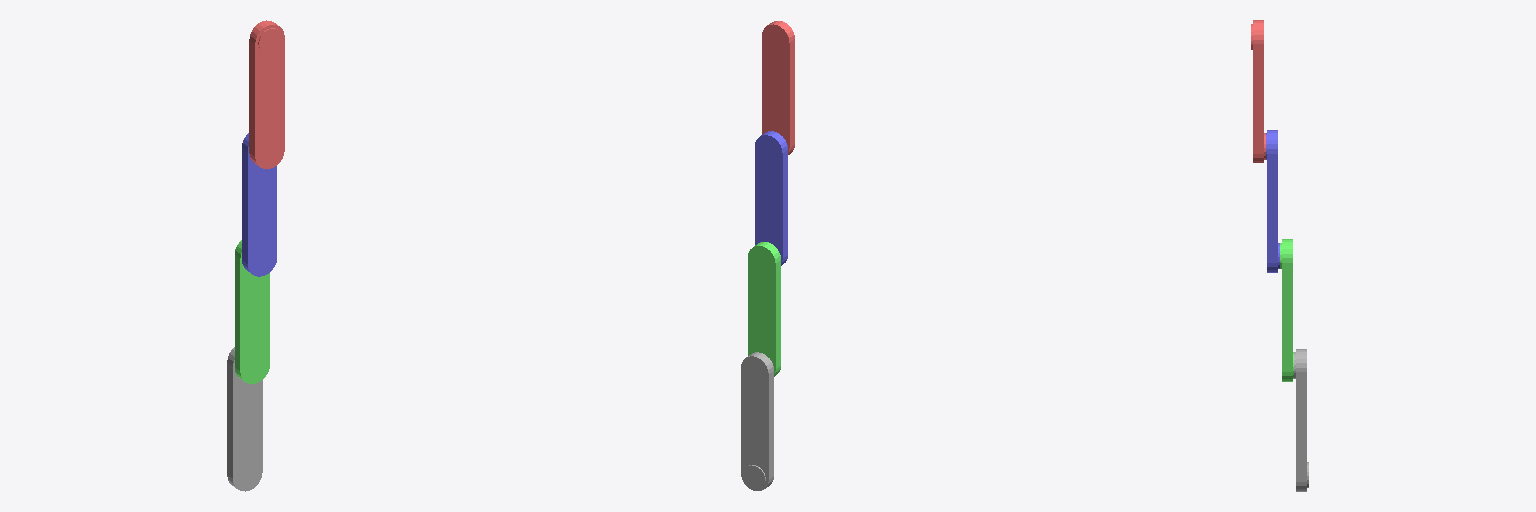
The robot description file, URDF, robot "Sim-Circular Cartpole L3.SLDASM":
<?xml version="1.0" encoding="utf-8"?>
<!-- This URDF was automatically created by SolidWorks to URDF Exporter! Originally created by Stephen Brawner (brawner@gmail.com) 
     Commit Version: 1.6.0-4-g7f85cfe  Build Version: 1.6.7995.38578
     For more information, please see http://wiki.ros.org/sw_urdf_exporter -->
<robot
  name="Sim-Circular Cartpole L3.SLDASM">
  <link
    name="base_link">
    <inertial>
      <origin
        xyz="2.06705220655304E-18 0.0326642091616594 0.000122090101760878"
        rpy="0 0 0" />
      <mass
        value="0.409778207134298" />
      <inertia
        ixx="0.000328708745423522"
        ixy="3.01822904180925E-20"
        ixz="-7.36106350895342E-21"
        iyy="0.00072201047906236"
        iyz="-3.67008610700572E-07"
        izz="0.000878189446080419" />
    </inertial>
    <visual>
      <origin
        xyz="0 0 0"
        rpy="0 0 0" />
      <geometry>
        <mesh
          filename="package://Sim-Circular Cartpole L3.SLDASM/meshes/base_link.STL" />
      </geometry>
      <material
        name="">
        <color
          rgba="0.752941176470588 0.752941176470588 0.752941176470588 1" />
      </material>
    </visual>
    <collision>
      <origin
        xyz="0 0 0"
        rpy="0 0 0" />
      <geometry>
        <mesh
          filename="package://Sim-Circular Cartpole L3.SLDASM/meshes/base_link.STL" />
      </geometry>
    </collision>
  </link>
  <link
    name="fixed_pole">
    <inertial>
      <origin
        xyz="-7.72205987213783E-18 0.08 0.00949999999999999"
        rpy="0 0 0" />
      <mass
        value="0.132256413665709" />
      <inertia
        ixx="0.000435696040674517"
        ixy="-7.48565367135988E-21"
        ixz="-1.87053109185325E-22"
        iyy="2.27781932139765E-05"
        iyz="-2.6169466804403E-06"
        izz="0.00045310026848496" />
    </inertial>
    <visual>
      <origin
        xyz="0 0 0"
        rpy="0 0 0" />
      <geometry>
        <mesh
          filename="package://Sim-Circular Cartpole L3.SLDASM/meshes/fixed_pole.STL" />
      </geometry>
      <material
        name="">
        <color
          rgba="0.752941176470588 0.752941176470588 0.752941176470588 1" />
      </material>
    </visual>
    <collision>
      <origin
        xyz="0 0 0"
        rpy="0 0 0" />
      <geometry>
        <mesh
          filename="package://Sim-Circular Cartpole L3.SLDASM/meshes/fixed_pole.STL" />
      </geometry>
    </collision>
  </link>
  <joint
    name="base_to_fixed"
    type="continuous">
    <origin
      xyz="0 -0.027 0.04"
      rpy="1.5707963267949 0 0" />
    <parent
      link="base_link" />
    <child
      link="fixed_pole" />
    <axis
      xyz="0 0 1" />
  </joint>
  <link
    name="flex_pole_1">
    <inertial>
      <origin
        xyz="-9.01564525398033E-17 0.08 0.00949999999999999"
        rpy="0 0 0" />
      <mass
        value="0.132256413665709" />
      <inertia
        ixx="0.000435696040674517"
        ixy="-5.6786500505507E-21"
        ixz="-2.5410988417629E-22"
        iyy="2.27781932139765E-05"
        iyz="-2.6169466804403E-06"
        izz="0.00045310026848496" />
    </inertial>
    <visual>
      <origin
        xyz="0 0 0"
        rpy="0 0 0" />
      <geometry>
        <mesh
          filename="package://Sim-Circular Cartpole L3.SLDASM/meshes/flex_pole_1.STL" />
      </geometry>
      <material
        name="">
        <color
          rgba="0.501960784313725 1 0.501960784313725 1" />
      </material>
    </visual>
    <collision>
      <origin
        xyz="0 0 0"
        rpy="0 0 0" />
      <geometry>
        <mesh
          filename="package://Sim-Circular Cartpole L3.SLDASM/meshes/flex_pole_1.STL" />
      </geometry>
    </collision>
  </link>
  <joint
    name="fixed_to_flex_1"
    type="continuous">
    <origin
      xyz="0 0.160000000000003 0.019"
      rpy="0 0 0" />
    <parent
      link="fixed_pole" />
    <child
      link="flex_pole_1" />
    <axis
      xyz="0 0 1" />
  </joint>
  <link
    name="flex_pole_2">
    <inertial>
      <origin
        xyz="-7.6131837904098E-18 0.08 0.00949999999999999"
        rpy="0 0 0" />
      <mass
        value="0.132256413665709" />
      <inertia
        ixx="0.000435696040674517"
        ixy="-5.67865005055071E-21"
        ixz="-7.09390093325477E-22"
        iyy="2.27781932139765E-05"
        iyz="-2.6169466804403E-06"
        izz="0.00045310026848496" />
    </inertial>
    <visual>
      <origin
        xyz="0 0 0"
        rpy="0 0 0" />
      <geometry>
        <mesh
          filename="package://Sim-Circular Cartpole L3.SLDASM/meshes/flex_pole_2.STL" />
      </geometry>
      <material
        name="">
        <color
          rgba="0.501960784313725 0.501960784313725 1 1" />
      </material>
    </visual>
    <collision>
      <origin
        xyz="0 0 0"
        rpy="0 0 0" />
      <geometry>
        <mesh
          filename="package://Sim-Circular Cartpole L3.SLDASM/meshes/flex_pole_2.STL" />
      </geometry>
    </collision>
  </link>
  <joint
    name="flex_1_to_flex_2"
    type="continuous">
    <origin
      xyz="0 0.159999999999997 0.019"
      rpy="0 0 0" />
    <parent
      link="flex_pole_1" />
    <child
      link="flex_pole_2" />
    <axis
      xyz="0 0 1" />
  </joint>
  <link
    name="flex_pole_3">
    <inertial>
      <origin
        xyz="-7.7153114851915E-18 0.08 0.00950000000000001"
        rpy="0 0 0" />
      <mass
        value="0.132256413665709" />
      <inertia
        ixx="0.000435696040674517"
        ixy="-7.37271594505931E-21"
        ixz="-3.79400174290989E-22"
        iyy="2.27781932139765E-05"
        iyz="-2.6169466804403E-06"
        izz="0.000453100268484959" />
    </inertial>
    <visual>
      <origin
        xyz="0 0 0"
        rpy="0 0 0" />
      <geometry>
        <mesh
          filename="package://Sim-Circular Cartpole L3.SLDASM/meshes/flex_pole_3.STL" />
      </geometry>
      <material
        name="">
        <color
          rgba="1 0.501960784313725 0.501960784313725 1" />
      </material>
    </visual>
    <collision>
      <origin
        xyz="0 0 0"
        rpy="0 0 0" />
      <geometry>
        <mesh
          filename="package://Sim-Circular Cartpole L3.SLDASM/meshes/flex_pole_3.STL" />
      </geometry>
    </collision>
  </link>
  <joint
    name="flex_2_to_flex_3"
    type="continuous">
    <origin
      xyz="0 0.16 0.019"
      rpy="0 0 0" />
    <parent
      link="flex_pole_2" />
    <child
      link="flex_pole_3" />
    <axis
      xyz="0 0 1" />
  </joint>
</robot>

--- Render facts (derived) ---
Views: 3 orthographic renders of the robot side by side, from view 1: azimuth 30°, elevation 25°; view 2: azimuth 150°, elevation 25°; view 3: azimuth 270°, elevation 25°.
Robot: Sim-Circular Cartpole L3.SLDASM — 5 links, 4 joints (4 continuous); root link base_link; default pose: every joint at zero.
Visible links, largest first — view 1: flex_pole_3, fixed_pole, flex_pole_2, flex_pole_1; view 2: fixed_pole, flex_pole_1, flex_pole_2, flex_pole_3; view 3: fixed_pole, flex_pole_3, flex_pole_1, flex_pole_2.
Boxes of the visible links, left/top/right/bottom form: flex_pole_3: left=249, top=20, right=284, bottom=168; fixed_pole: left=227, top=347, right=262, bottom=491; flex_pole_2: left=242, top=133, right=276, bottom=276; flex_pole_1: left=235, top=240, right=269, bottom=383; fixed_pole: left=741, top=352, right=773, bottom=490; flex_pole_1: left=748, top=242, right=780, bottom=376; flex_pole_2: left=755, top=131, right=787, bottom=265; flex_pole_3: left=762, top=21, right=794, bottom=154; fixed_pole: left=1294, top=349, right=1308, bottom=491; flex_pole_3: left=1251, top=20, right=1265, bottom=162; flex_pole_1: left=1280, top=239, right=1293, bottom=381; flex_pole_2: left=1266, top=130, right=1279, bottom=272.
Size in the robot's own frame: 0.044 by 0.076 by 0.6836 metres.
Meshes: 5 distinct files referenced, 4 mesh visuals loaded (4 binary STL); not drawn: 1 (reference not matched to a file when rendering).
